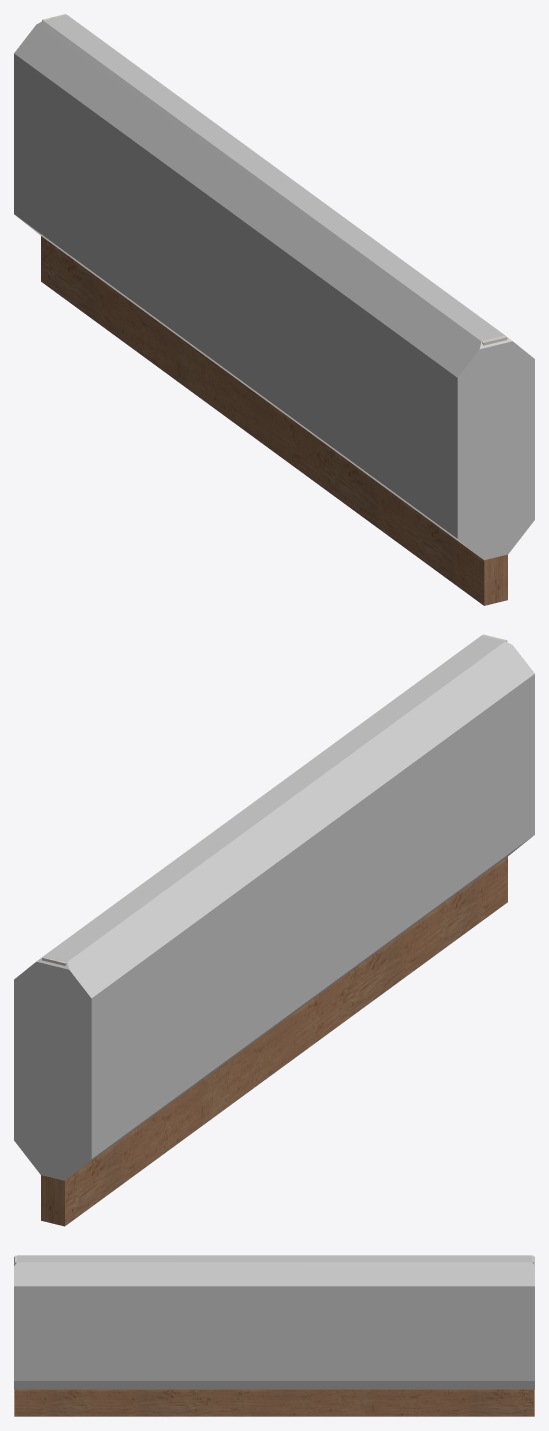
Rendered from SM_HBJ_BeamA.fbx.
The picture shows the model from 3 angles, top to bottom: view 1: azimuth 30°, elevation 25°; view 2: azimuth 150°, elevation 25°; view 3: azimuth 270°, elevation 25°; orthographic projection. The views are drawn at different scales.
Visible parts, largest first — view 1: SM_HBJ_BeamA_ConvexHulls, SM_HBJ_BeamA; view 2: SM_HBJ_BeamA_ConvexHulls, SM_HBJ_BeamA; view 3: SM_HBJ_BeamA_ConvexHulls, SM_HBJ_BeamA.
Boxes of the visible parts, x1,y1,x2,y2 form: SM_HBJ_BeamA_ConvexHulls: (14,15,534,560); SM_HBJ_BeamA: (41,14,507,605); SM_HBJ_BeamA_ConvexHulls: (14,635,534,1180); SM_HBJ_BeamA: (41,634,507,1226); SM_HBJ_BeamA_ConvexHulls: (14,1255,534,1389); SM_HBJ_BeamA: (14,1255,534,1416).
Size of the model in its own units: 26.37 by 261 by 85.38.
3 materials, 2 textured.
